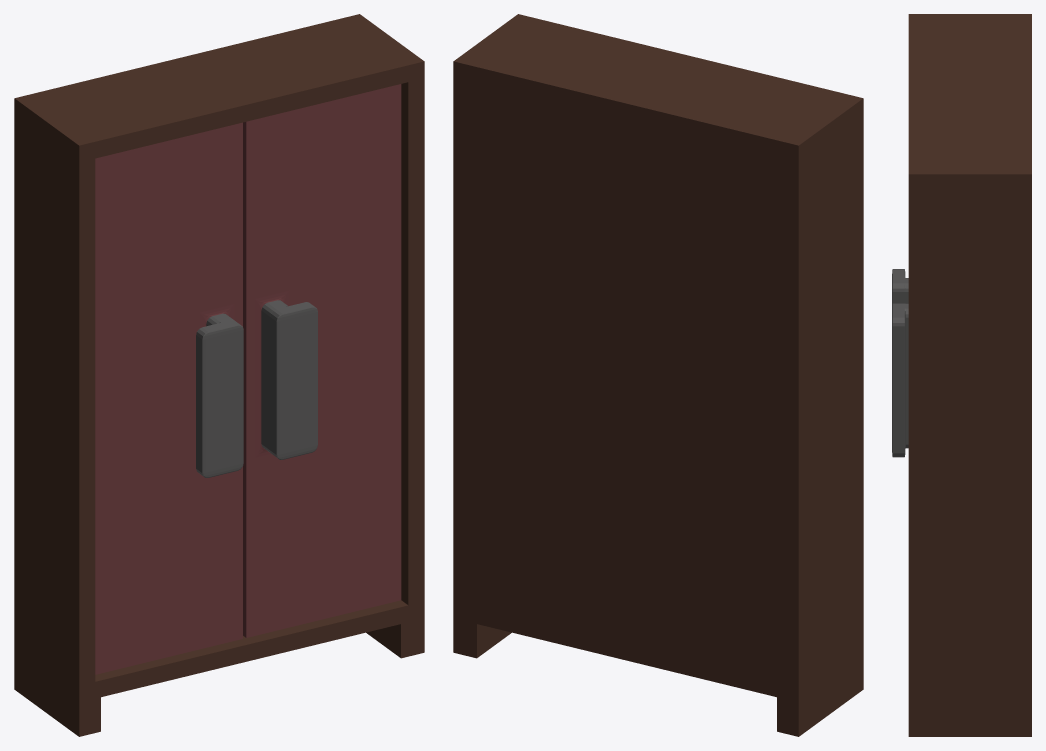
Rendered from meuble1.fbx.
3 views of the same model, side by side, from view 1: azimuth 30°, elevation 25°; view 2: azimuth 150°, elevation 25°; view 3: azimuth 270°, elevation 25° (orthographic). The views are drawn at different scales.
Visible parts, largest first — view 1: Cube.008; view 2: Cube.008; view 3: Cube.008.
Boxes of the visible parts, x1,y1,x2,y2 form: Cube.008: [14, 14, 424, 736]; Cube.008: [453, 14, 863, 736]; Cube.008: [892, 14, 1031, 736].
Size of the model in its own units: 616 by 1008 by 227.
